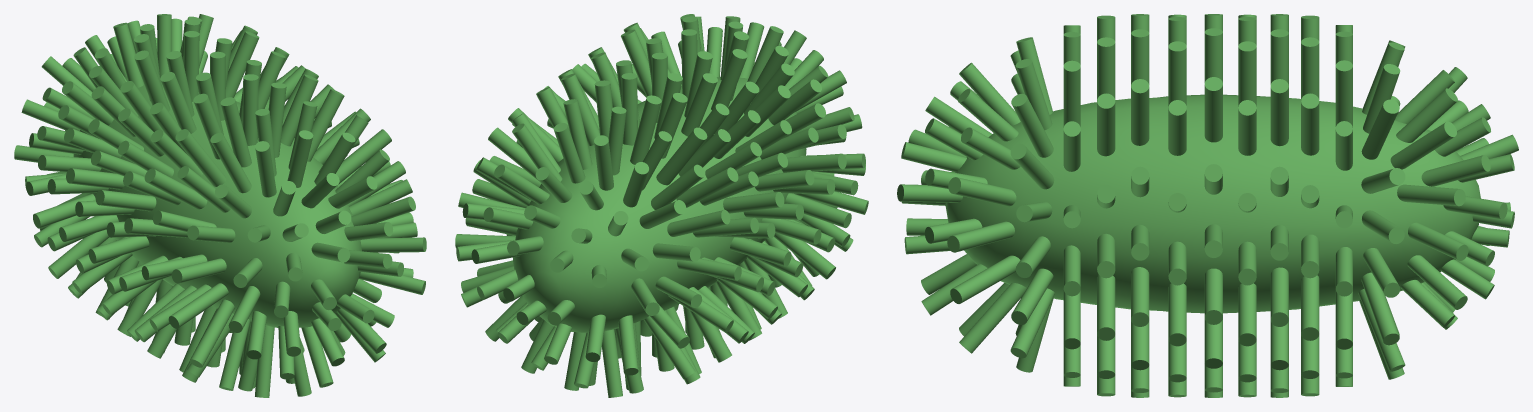
The model's file is GREENBACTERIA2.fbx.
3 renders of one model, left to right at view 1: azimuth 30°, elevation 25°; view 2: azimuth 150°, elevation 25°; view 3: azimuth 270°, elevation 25°, orthographic. The views are drawn at different scales.
Parts seen in each view (by area): view 1: pCylinder83; view 2: pCylinder83; view 3: pCylinder83.
Part boxes in pixels (x1,y1,x2,y2): pCylinder83: (14,14,426,397); pCylinder83: (455,14,868,397); pCylinder83: (897,14,1518,397).
Bounding box in the file's own units: 5.82 × 5.81 × 9.42.
